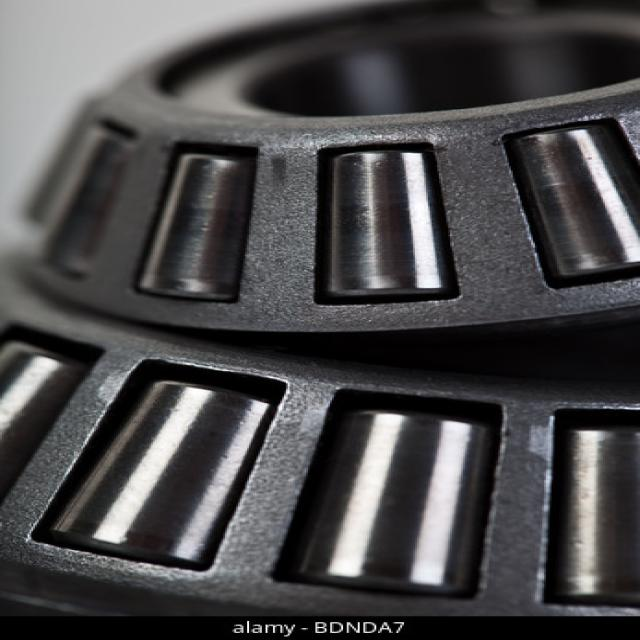Bearing: (0, 273, 638, 614), (11, 0, 640, 345)
